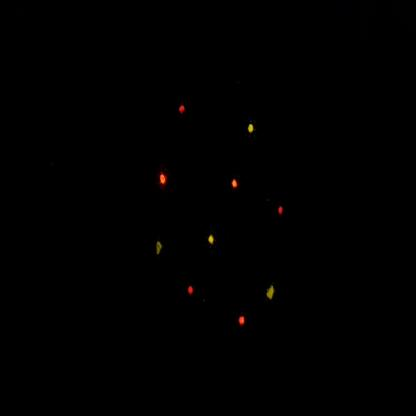PE: (243, 112, 260, 144), (205, 222, 219, 256)
PET: (176, 97, 192, 128), (273, 196, 289, 225), (184, 279, 198, 307)
PP: (262, 275, 281, 317), (150, 231, 168, 272)
PVC: (231, 299, 252, 340), (224, 172, 245, 203), (155, 162, 174, 196)
